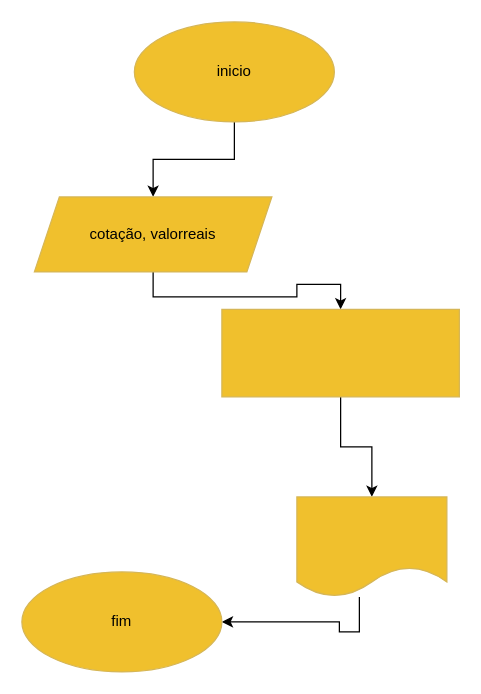
Image size: 481x694. Some labels were removed from this diagram. Each missing label, with the centre of its shape:
resultado: the point at 371,546
resultado = valoresreais/cotacao: the point at 340,352
